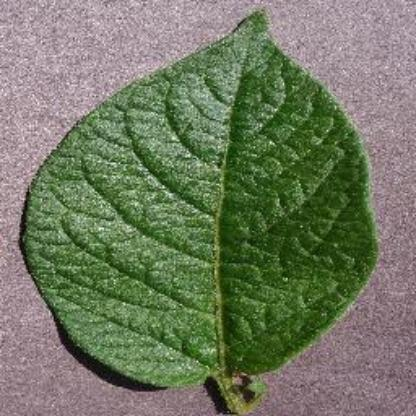Healthy-plant: (17, 19, 390, 404)
